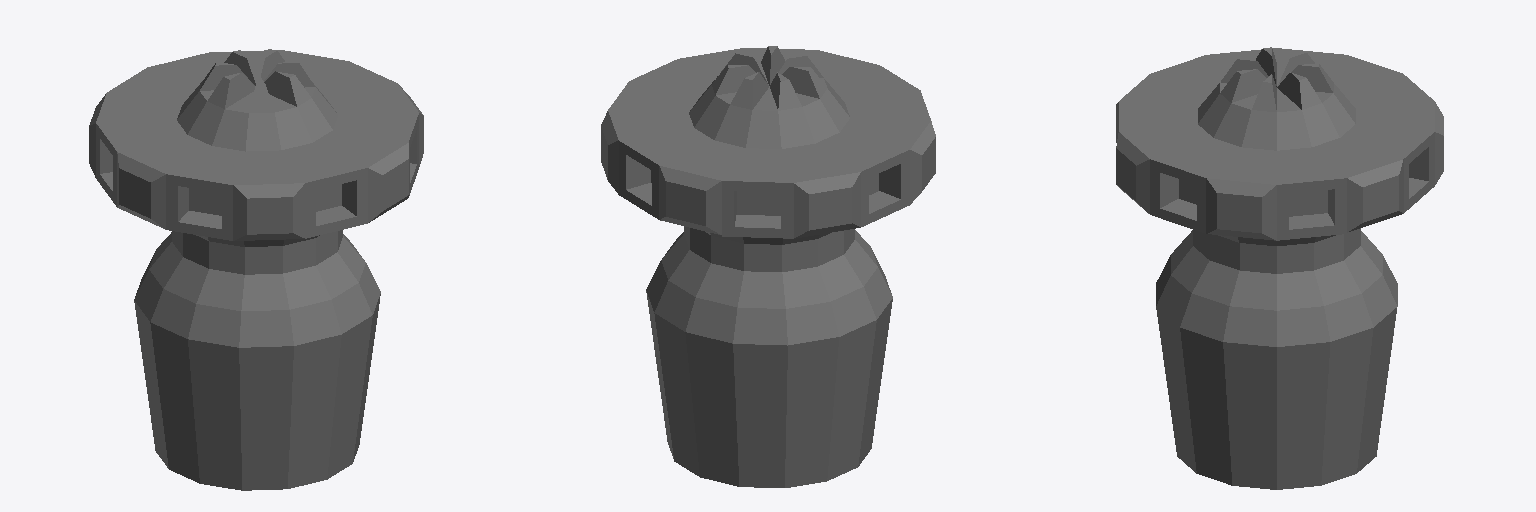
File: building_plug.obj
The picture shows the model from 3 angles: view 1: azimuth 30°, elevation 25°; view 2: azimuth 150°, elevation 25°; view 3: azimuth 270°, elevation 25°; orthographic projection.
Parts seen in each view (by area): view 1: plugbuilding:polySurface1; view 2: plugbuilding:polySurface1; view 3: plugbuilding:polySurface1.
Part boxes in pixels (x1,y1,x2,y2): plugbuilding:polySurface1: (89, 49, 423, 490); plugbuilding:polySurface1: (601, 46, 935, 487); plugbuilding:polySurface1: (1116, 47, 1443, 489).
Size of the model in its own units: 85.63 by 107 by 83.48.